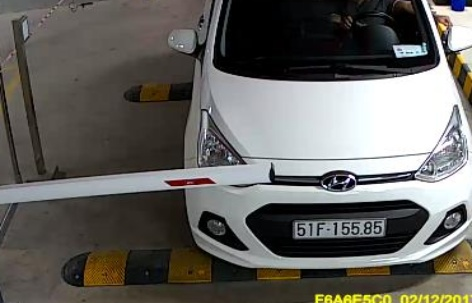plate: (289, 213, 387, 246)
